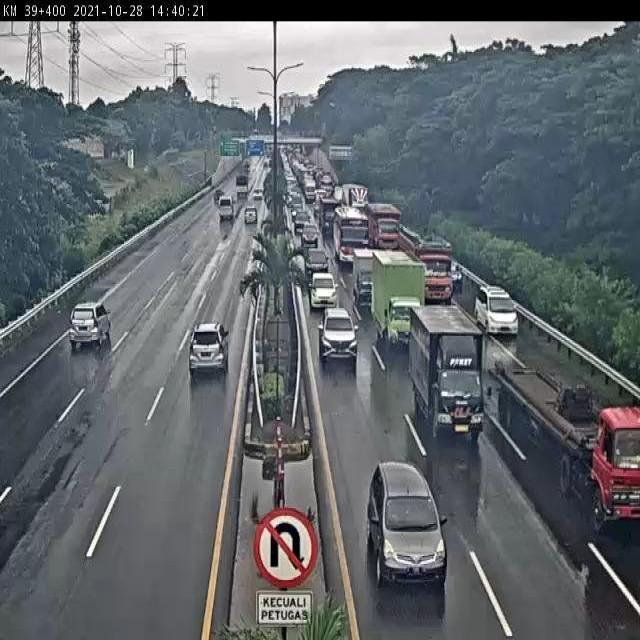car: (367, 460, 448, 584), (316, 301, 355, 359), (69, 301, 113, 351), (475, 287, 518, 335), (188, 323, 230, 369), (308, 267, 337, 305), (302, 242, 328, 270)
truck: (496, 360, 640, 532), (409, 307, 486, 436), (369, 249, 420, 339), (397, 223, 449, 296), (331, 207, 365, 260), (349, 244, 376, 303)
